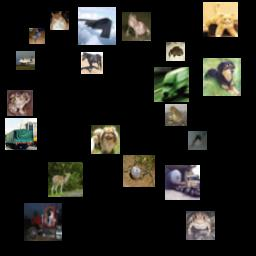airplane: (78, 7, 116, 45), (16, 51, 35, 70)
cat: (203, 2, 238, 37), (50, 11, 69, 30), (29, 28, 45, 44)
deer: (48, 162, 83, 197)
dog: (203, 58, 241, 96), (91, 125, 120, 154), (188, 131, 207, 150)
frog: (123, 155, 155, 187), (186, 211, 215, 240), (122, 12, 151, 41), (7, 90, 33, 116), (165, 104, 187, 126), (166, 42, 185, 61)
truck: (24, 203, 62, 241), (165, 165, 200, 200), (154, 67, 189, 102), (5, 118, 37, 150)
